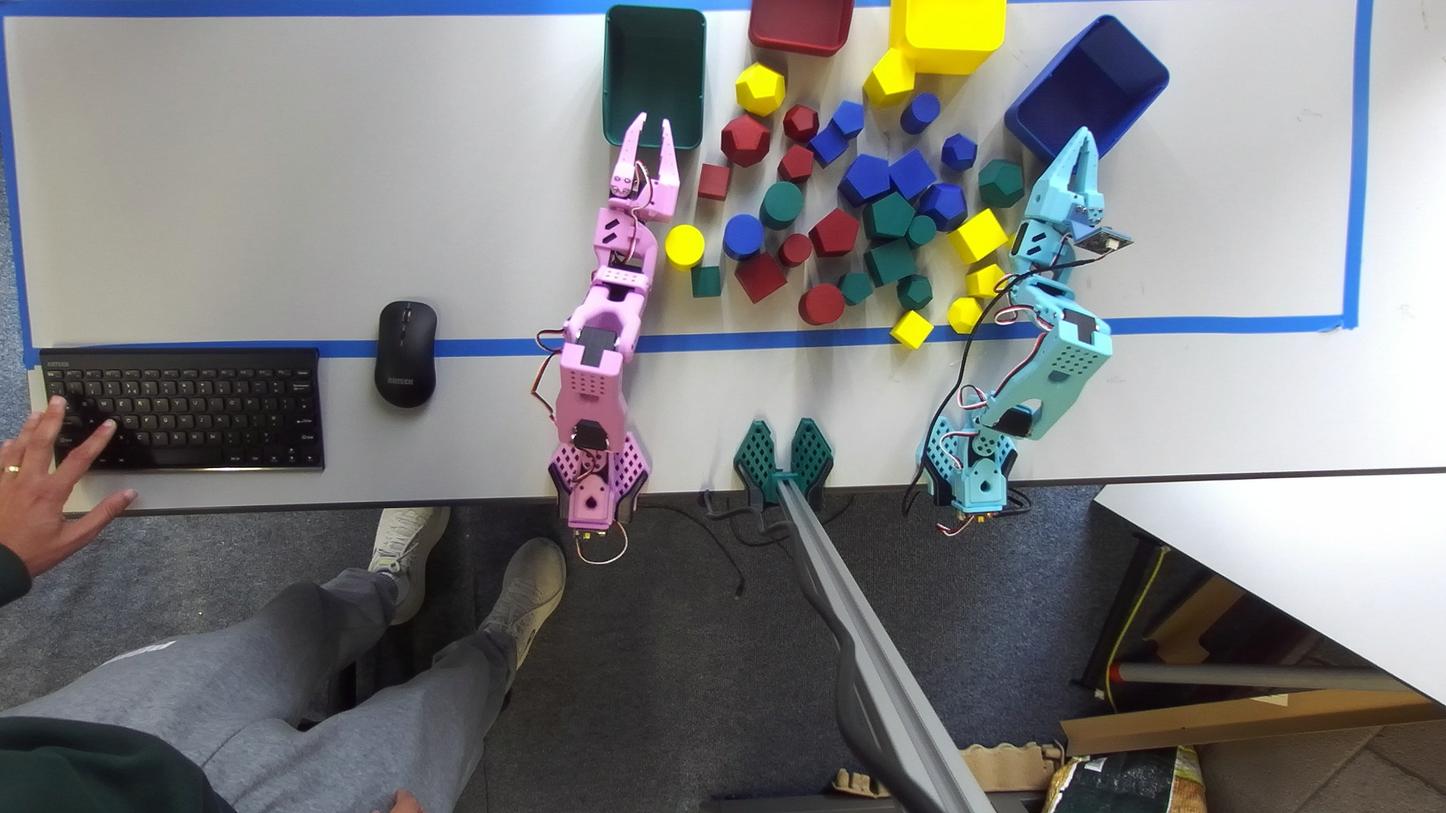bin: (1004, 15, 1169, 160), (603, 5, 705, 155), (889, 0, 1005, 74), (749, 0, 853, 56)
cube: (948, 209, 1008, 263), (734, 253, 786, 303), (889, 148, 936, 202), (863, 239, 916, 285), (808, 123, 848, 167), (890, 311, 932, 348), (697, 163, 731, 200), (691, 266, 721, 297)
cylinder: (758, 181, 804, 230), (723, 214, 764, 260), (798, 284, 845, 324), (664, 224, 704, 268), (900, 93, 940, 133), (778, 233, 813, 266), (906, 214, 936, 248)
dodecahedron: (735, 63, 786, 116), (721, 114, 770, 167), (917, 183, 967, 232), (978, 160, 1023, 207), (941, 133, 977, 171), (783, 104, 819, 142), (896, 274, 932, 310), (947, 297, 981, 333)
gripper: (1024, 126, 1104, 236), (609, 112, 680, 221)
hexagonal: (863, 49, 914, 106), (838, 154, 890, 206), (863, 192, 915, 241), (808, 208, 859, 257), (966, 264, 1005, 298), (830, 99, 863, 139), (778, 145, 813, 182), (837, 273, 874, 305)
